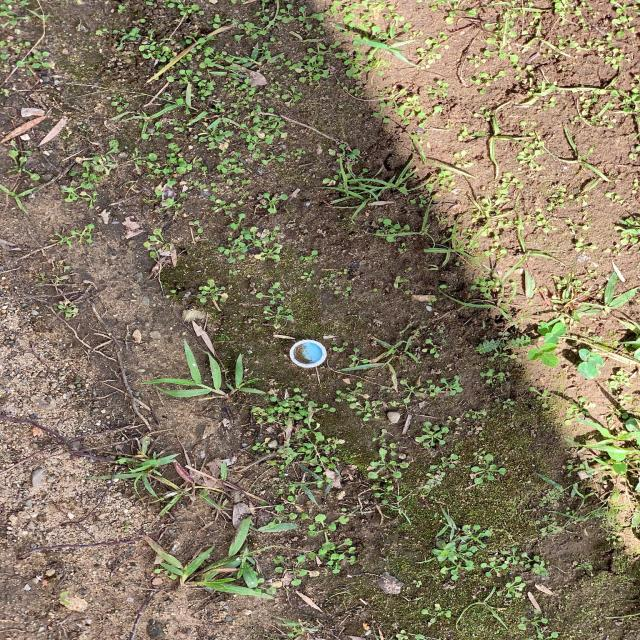litter: (288, 337, 328, 368)
